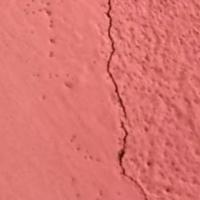crack: (96, 0, 149, 193)
